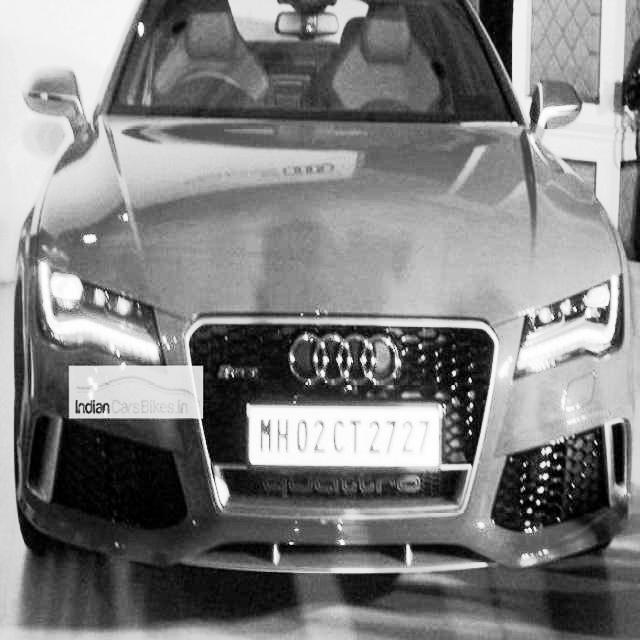Car: (17, 0, 639, 640)
